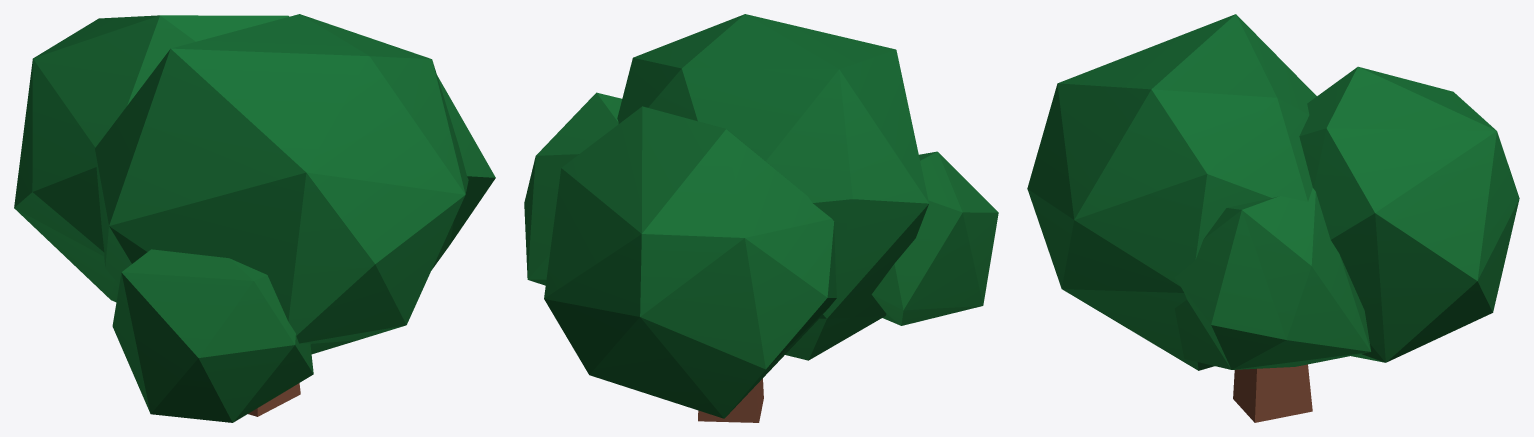
File: Bush_6_gradient_green_vc.fbx
3 views of the same model, side by side, from view 1: azimuth 30°, elevation 25°; view 2: azimuth 150°, elevation 25°; view 3: azimuth 270°, elevation 25° (orthographic). The views are drawn at different scales.
Visible parts, largest first — view 1: Bush_6_gradient_green_vc; view 2: Bush_6_gradient_green_vc; view 3: Bush_6_gradient_green_vc.
Part boxes in pixels (left/top/right/bottom): Bush_6_gradient_green_vc: left=14, top=14, right=495, bottom=422; Bush_6_gradient_green_vc: left=524, top=14, right=998, bottom=422; Bush_6_gradient_green_vc: left=1027, top=14, right=1519, bottom=422.
Bounding box in the file's own units: 30.85 × 27.54 × 35.35.
